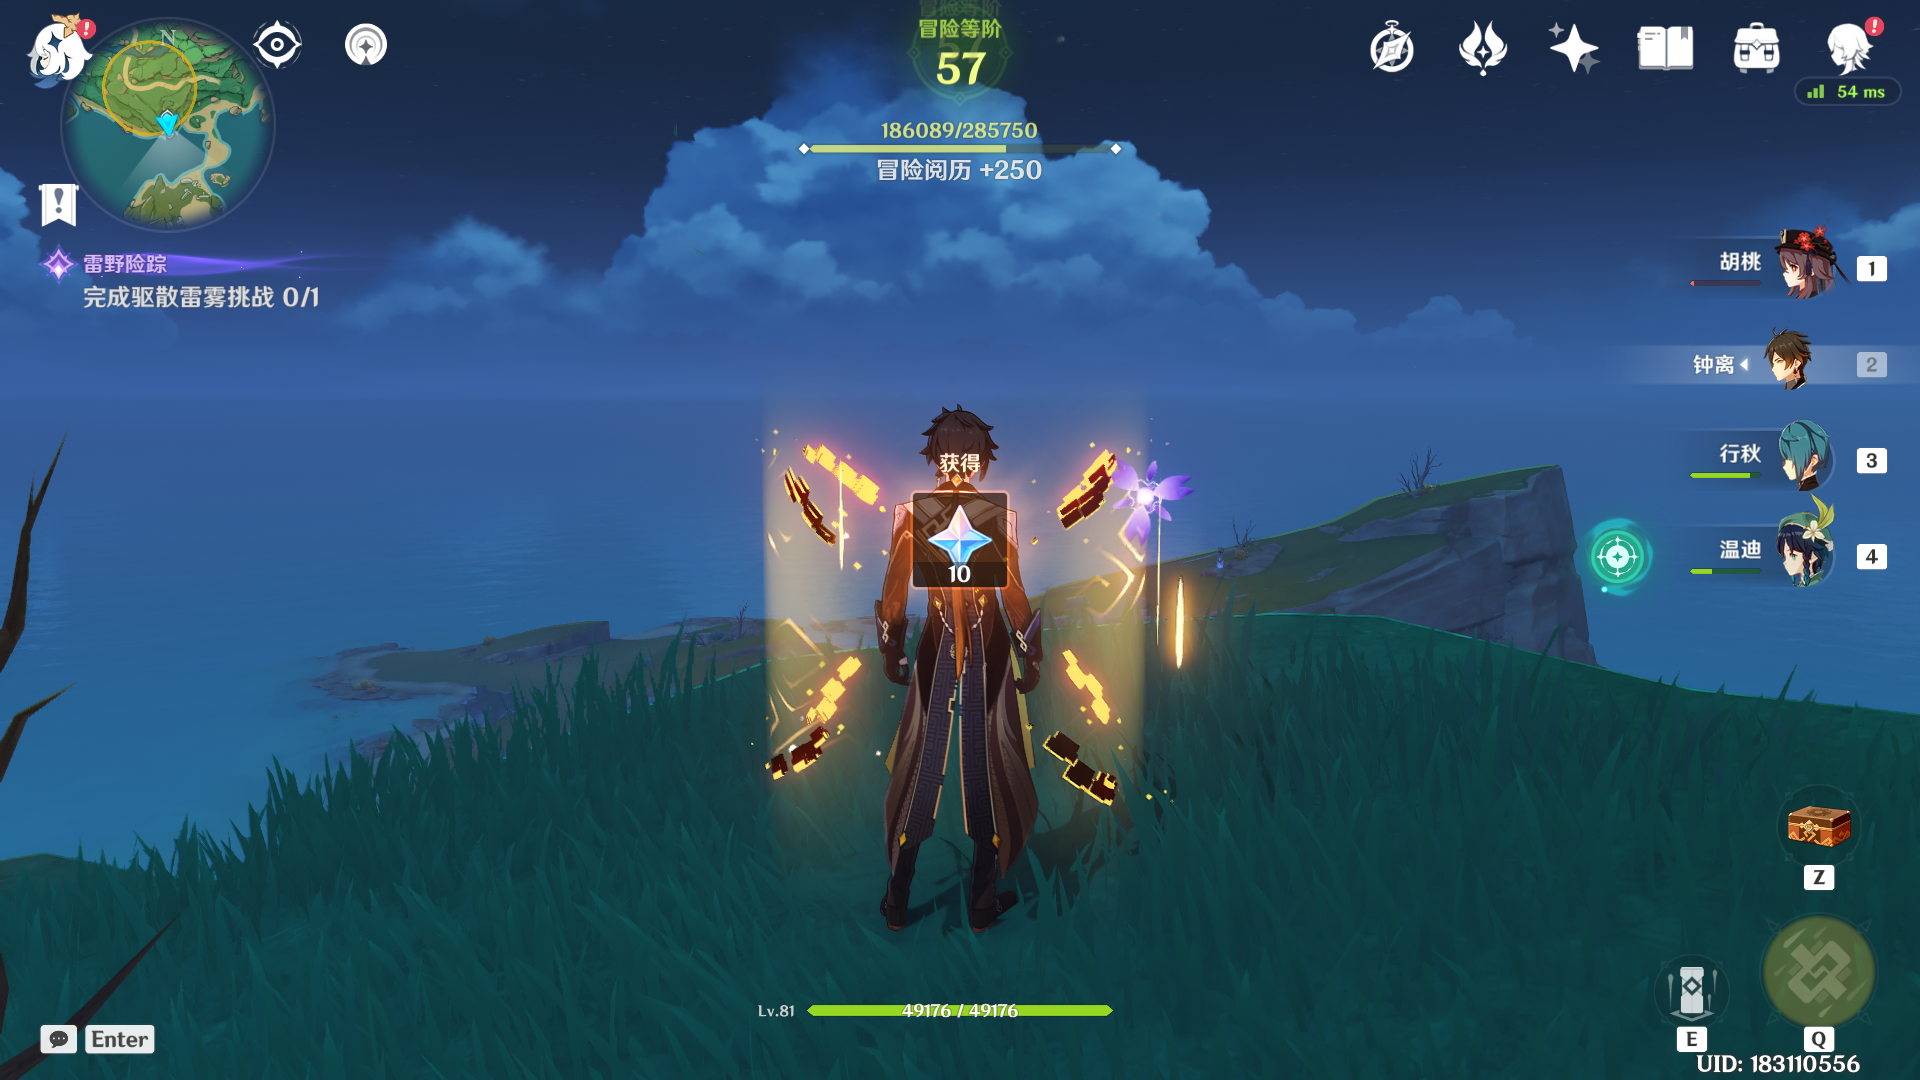character: (787, 369, 1113, 949)
